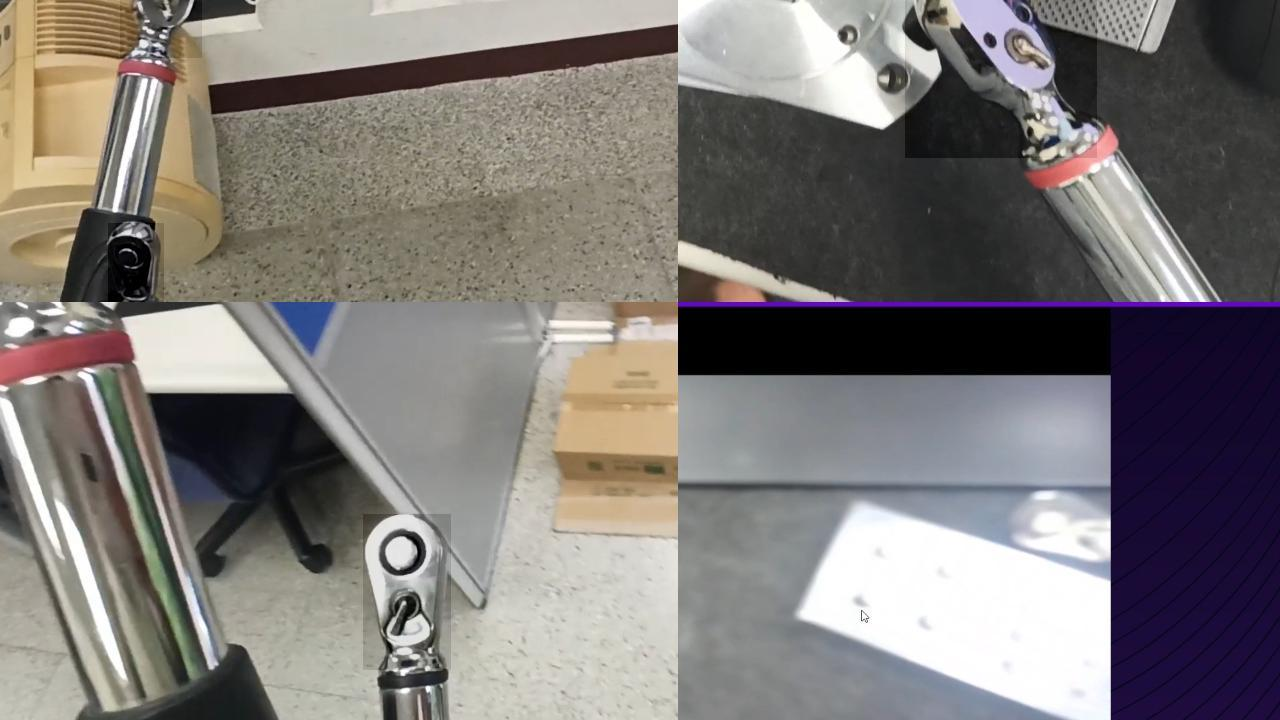Tool: (904, 0, 1096, 157), (362, 513, 450, 669), (119, 0, 201, 57), (107, 222, 163, 302)
